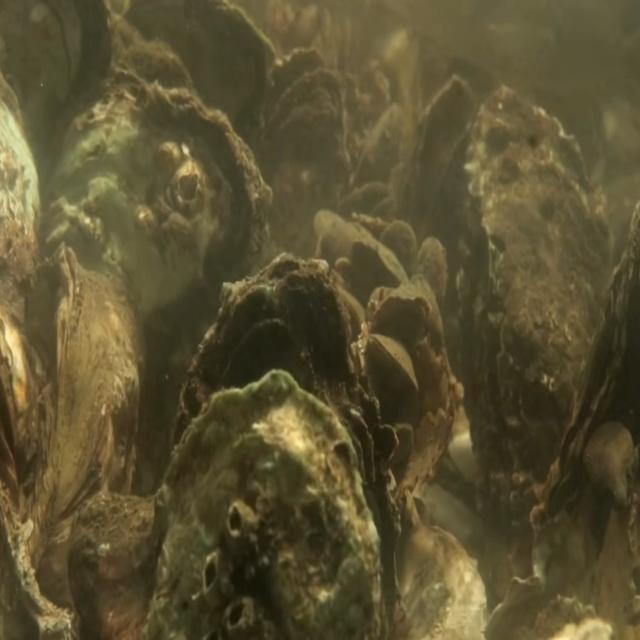Oyster-Closed: (42, 78, 270, 484), (167, 250, 398, 640), (455, 84, 610, 524), (144, 368, 383, 640), (522, 195, 640, 591), (369, 331, 418, 395), (374, 286, 432, 334)
Oyster-Indeterminate: (29, 240, 141, 640), (399, 73, 480, 304), (349, 234, 409, 288), (379, 219, 419, 291), (415, 236, 448, 312)
Oyster-Open: (254, 47, 350, 248)
